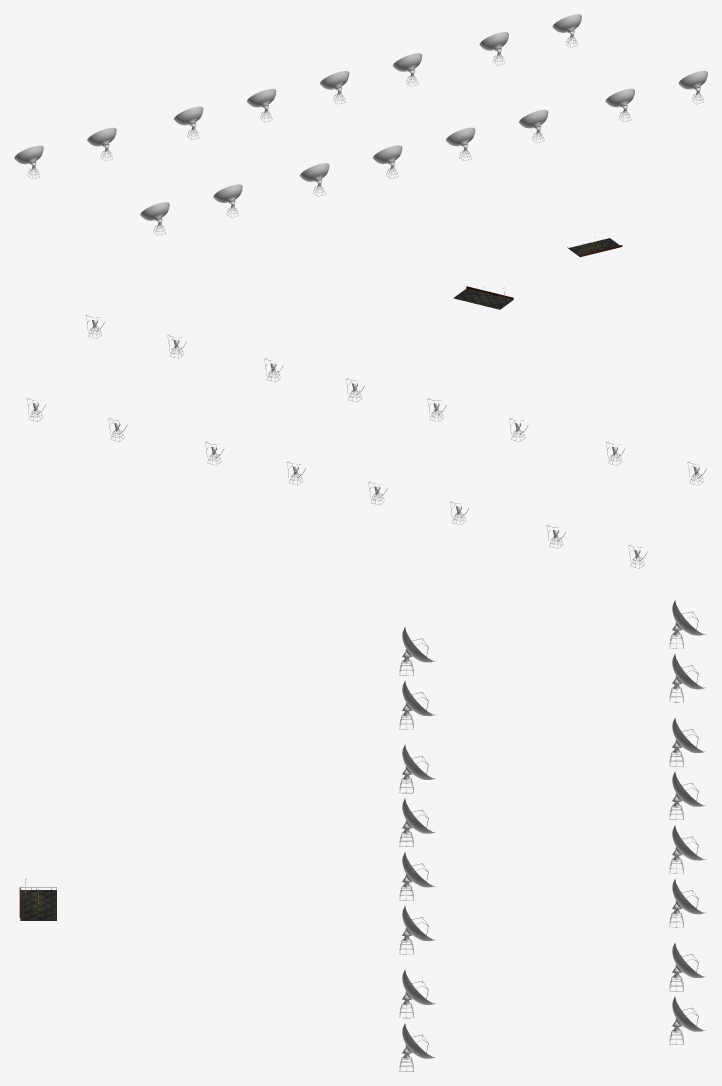
Rendered from zombie-demo-map.glb.
3 renders of one model, top to bottom at view 1: azimuth 30°, elevation 25°; view 2: azimuth 150°, elevation 25°; view 3: azimuth 270°, elevation 25°, orthographic. The views are drawn at different scales.
Parts seen in each view (by area): view 1: radio-telescope01.015, radio-telescope01.014, radio-telescope01.002, radio-telescope01.011, radio-telescope01.004, radio-telescope01.006, radio-telescope01.007, radio-telescope01, radio-telescope01.001, radio-telescope01.009, radio-telescope01.003, radio-telescope01.005 (+5 smaller); view 2: parking; view 3: parking.
Boxes of the visible parts, x1,y1,x2,y2 form: radio-telescope01.015: (246, 88, 276, 122); radio-telescope01.014: (173, 106, 203, 139); radio-telescope01.002: (319, 71, 349, 104); radio-telescope01.011: (87, 127, 116, 160); radio-telescope01.004: (605, 88, 634, 121); radio-telescope01.006: (479, 32, 508, 65); radio-telescope01.007: (552, 14, 581, 47); radio-telescope01: (445, 127, 475, 160); radio-telescope01.001: (519, 109, 548, 142); radio-telescope01.009: (213, 184, 242, 217); radio-telescope01.003: (393, 53, 422, 86); radio-telescope01.005: (678, 70, 707, 104); parking: (453, 288, 512, 309); parking: (20, 890, 56, 920).
Bounding box in the file's own units: 1431 × 73.18 × 946.
Materials: 8 (6 with a texture image).
